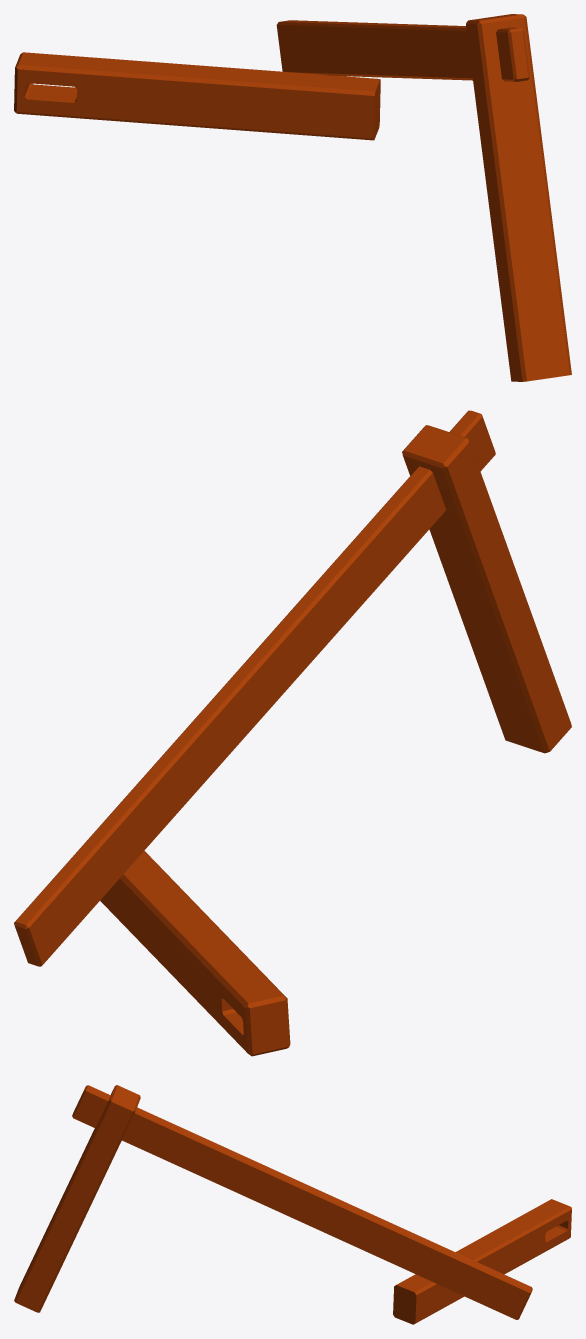
The model's file is BrokenWoodFence.fbx.
3 views of the same model, one above another, from view 1: azimuth 30°, elevation 25°; view 2: azimuth 150°, elevation 25°; view 3: azimuth 270°, elevation 25° (orthographic). The views are drawn at different scales.
Visible parts, largest first — view 1: Cube.002; view 2: Cube.002; view 3: Cube.002.
Boxes of the visible parts, x1=… form: Cube.002: x1=14, y1=14, x2=571, y2=381; Cube.002: x1=14, y1=410, x2=571, y2=1056; Cube.002: x1=14, y1=1085, x2=571, y2=1324.
Bounding box in the file's own units: 120 × 138 × 311.
